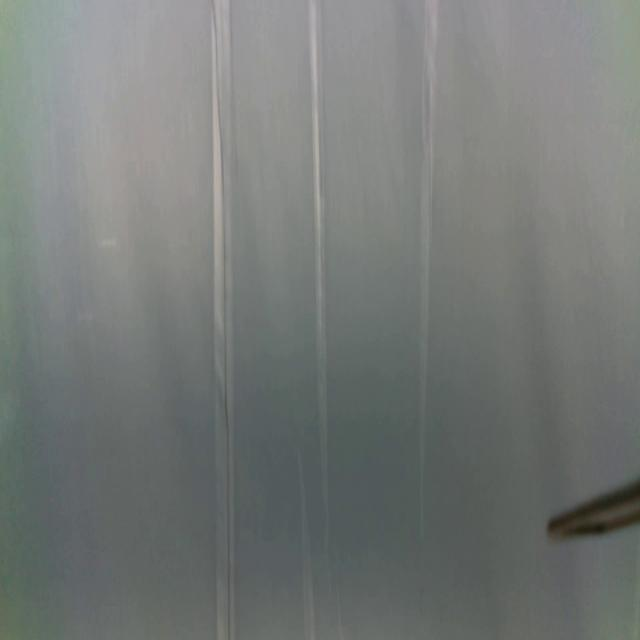crease: (210, 0, 239, 640), (306, 0, 332, 548), (416, 0, 441, 540), (296, 449, 315, 638)
